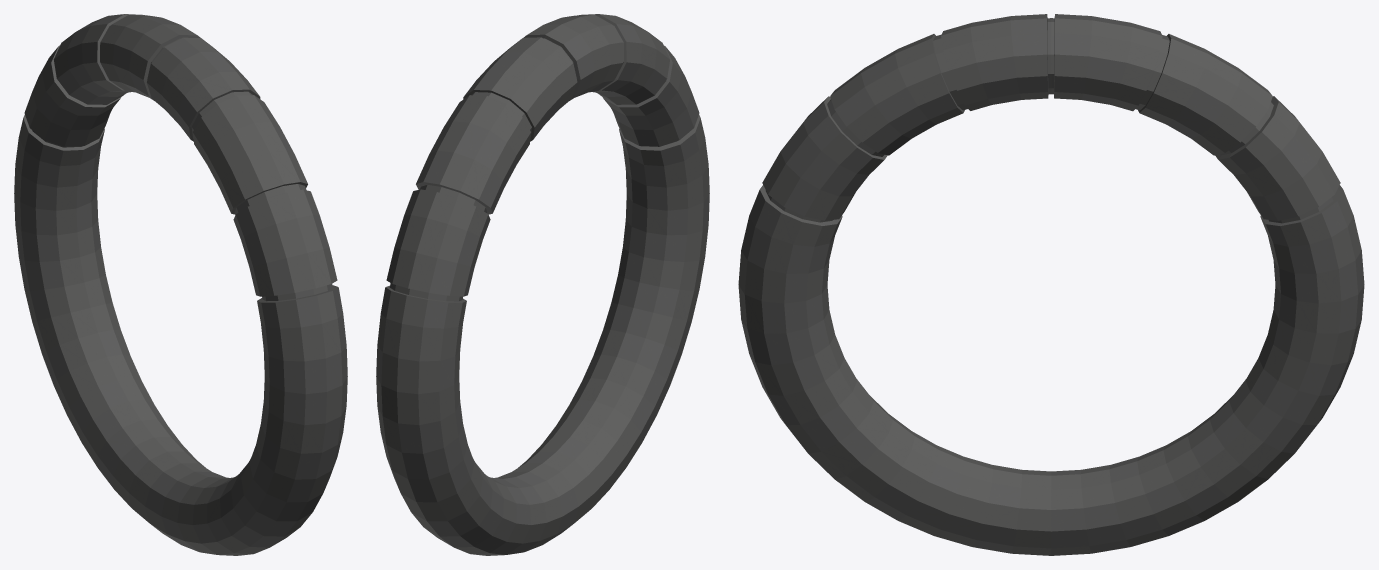
File: circle_pillar.fbx
3 renders of one model, left to right at view 1: azimuth 30°, elevation 25°; view 2: azimuth 150°, elevation 25°; view 3: azimuth 270°, elevation 25°, orthographic. The views are drawn at different scales.
Visible parts, largest first — view 1: Torus; view 2: Torus; view 3: Torus.
Part boxes in pixels (x1=…): Torus: x1=14, y1=14, x2=347, y2=555; Torus: x1=376, y1=14, x2=709, y2=555; Torus: x1=738, y1=14, x2=1364, y2=555.
Bounding box in the file's own units: 1117 × 1050 × 159.
